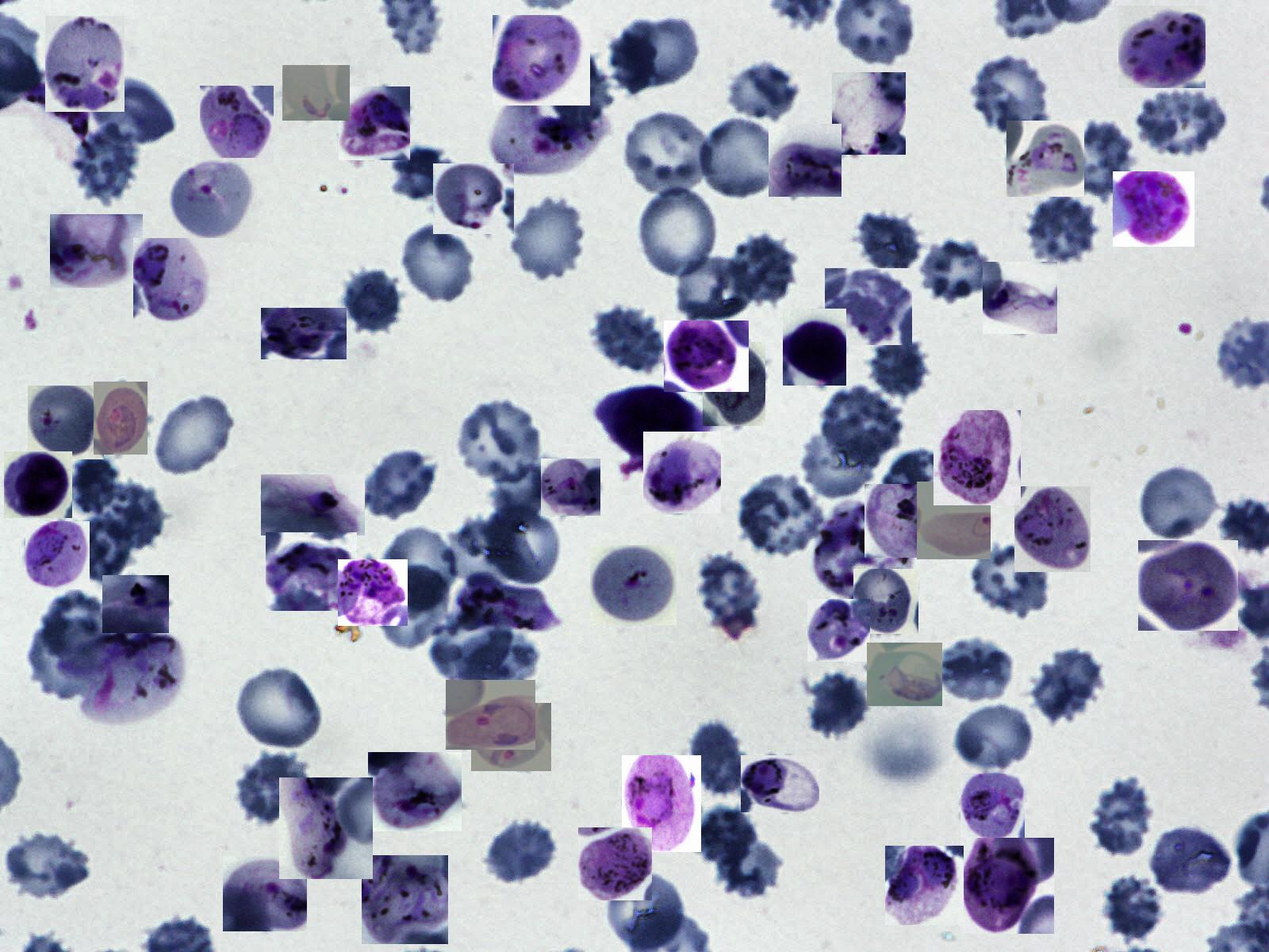Infected: (80, 624, 190, 728), (593, 383, 719, 466), (811, 500, 911, 601), (489, 93, 610, 176), (279, 777, 373, 879), (1138, 540, 1238, 631), (960, 838, 1054, 934), (493, 15, 590, 106), (934, 410, 1021, 505), (133, 238, 224, 324), (45, 16, 125, 112), (622, 755, 701, 852), (362, 855, 448, 944), (169, 158, 257, 243), (368, 752, 462, 831), (1118, 6, 1206, 88), (266, 533, 357, 612), (451, 570, 562, 633), (590, 546, 677, 626), (50, 214, 143, 288), (825, 268, 912, 345), (1014, 486, 1091, 572), (261, 474, 365, 536), (643, 432, 721, 513), (223, 856, 307, 931), (885, 846, 964, 925), (446, 680, 535, 750), (1113, 171, 1194, 247), (832, 72, 906, 155), (865, 484, 947, 558), (665, 321, 750, 392), (1006, 121, 1084, 197), (433, 163, 514, 234), (200, 86, 274, 163), (917, 482, 991, 559), (28, 386, 104, 459), (471, 703, 551, 771), (578, 827, 652, 900), (769, 124, 842, 197), (983, 262, 1057, 334), (339, 87, 410, 161), (703, 342, 765, 426), (783, 309, 846, 386), (867, 643, 942, 707), (338, 559, 408, 626), (4, 451, 72, 518), (741, 755, 819, 812), (25, 521, 90, 589), (261, 308, 347, 359), (960, 774, 1025, 840), (853, 570, 918, 635), (807, 599, 870, 662), (94, 382, 148, 455), (102, 575, 169, 633), (282, 65, 350, 121), (541, 459, 600, 516)
Uninfected: (634, 182, 721, 282), (450, 397, 546, 487), (622, 108, 716, 198), (233, 664, 324, 751), (696, 116, 786, 202), (1129, 82, 1229, 158), (507, 190, 589, 282), (698, 807, 780, 899), (151, 393, 237, 478), (379, 526, 459, 616), (819, 386, 904, 470), (613, 13, 705, 90), (1138, 463, 1221, 547), (968, 53, 1052, 136), (480, 504, 561, 588), (0, 827, 94, 899), (86, 74, 176, 149), (802, 419, 884, 500), (400, 221, 478, 305), (695, 553, 765, 646), (742, 477, 826, 554), (968, 542, 1055, 615), (27, 619, 104, 701), (606, 872, 684, 951), (236, 752, 318, 827), (1149, 822, 1232, 896), (376, 565, 447, 651), (68, 123, 146, 201), (1026, 650, 1107, 724), (1023, 195, 1104, 266), (675, 253, 757, 322), (335, 260, 409, 336), (590, 301, 666, 374), (726, 232, 797, 310), (359, 451, 438, 521), (938, 639, 1018, 707), (457, 628, 540, 693), (914, 236, 991, 305), (1069, 121, 1135, 200), (851, 205, 926, 274), (485, 817, 561, 885), (63, 514, 135, 585), (94, 482, 167, 552), (957, 704, 1033, 770), (1093, 777, 1154, 858), (40, 595, 113, 662), (1099, 873, 1163, 947), (690, 721, 748, 797), (866, 338, 939, 394), (809, 671, 871, 736), (727, 61, 796, 119), (489, 464, 548, 523)
